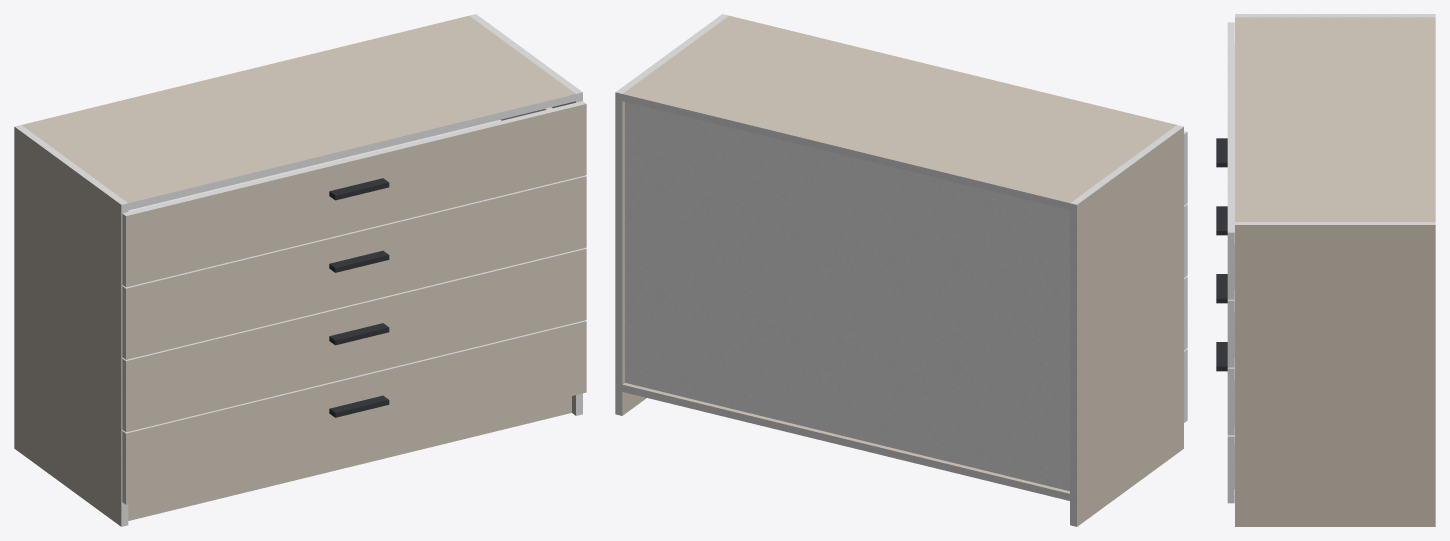
Rendered from CAL-DRS-std.glb.
3 views of the same model, side by side, from view 1: azimuth 30°, elevation 25°; view 2: azimuth 150°, elevation 25°; view 3: azimuth 270°, elevation 25° (orthographic). The views are drawn at different scales.
Visible parts, largest first — view 1: top:pbr, side-l:pbr, d1-front:pbr, d2-front:pbr, d3-front:pbr, d4-front:pbr, plinth:pbr, top:sheet:eyJtIjoibWRmIiwic2lkZSI6ImVkZ2UtbG9uZyIsInNlZWQiOj, pull, d4-front:sheet:eyJtIjoibWRmIiwic2lkZSI6ImVkZ2UtbG9uZyIsInNlZ, d1-front:sheet:eyJtIjoibWRmIiwic2lkZSI6ImVkZ2UtbG9uZyIsInNlZ, d2-front:sheet:eyJtIjoibWRmIiwic2lkZSI6ImVkZ2UtbG9uZyIsInNlZ (+5 smaller); view 2: back:sheet:eyJtIjoibWRmIiwic2lkZSI6ImZhY2UiLCJzZWVkIjo0LCJ0a, top:pbr, side-l:pbr, top:sheet:eyJtIjoibWRmIiwic2lkZSI6ImVkZ2UtbG9uZyIsInNlZWQiOj, bottom:sheet:eyJtIjoibWRmIiwic2lkZSI6ImVkZ2UtbG9uZyIsInNlZWQ, side-r:sheet:eyJtIjoibWRmIiwic2lkZSI6ImVkZ2UtbG9uZyIsInNlZWQ, side-l:sheet:eyJtIjoibWRmIiwic2lkZSI6ImVkZ2UtbG9uZyIsInNlZWQ, bottom:pbr, side-r:pbr, side-r:sheet:eyJtIjoibWRmIiwic2lkZSI6ImVkZ2UtZW5kIiwic2VlZCI, side-l:sheet:eyJtIjoibWRmIiwic2lkZSI6ImVkZ2UtZW5kIiwic2VlZCI; view 3: side-r:pbr, top:pbr, d4-front:sheet:eyJtIjoibWRmIiwic2lkZSI6ImVkZ2UtbG9uZyIsInNlZ, pull, side-l:sheet:eyJtIjoibWRmIiwic2lkZSI6ImVkZ2UtZW5kIiwic2VlZCI, side-r:sheet:eyJtIjoibWRmIiwic2lkZSI6ImVkZ2UtZW5kIiwic2VlZCI, d3-front:sheet:eyJtIjoibWRmIiwic2lkZSI6ImVkZ2UtZW5kIiwic2VlZ, d4-front:sheet:eyJtIjoibWRmIiwic2lkZSI6ImVkZ2UtZW5kIiwic2VlZ, d1-front:sheet:eyJtIjoibWRmIiwic2lkZSI6ImVkZ2UtZW5kIiwic2VlZ, d2-front:sheet:eyJtIjoibWRmIiwic2lkZSI6ImVkZ2UtZW5kIiwic2VlZ.
Boxes of the visible parts, x1,y1,x2,y2 form: top:pbr: (22, 16, 575, 202); side-l:pbr: (14, 127, 121, 526); d1-front:pbr: (126, 321, 586, 504); d2-front:pbr: (126, 249, 586, 432); d3-front:pbr: (126, 176, 586, 359); d4-front:pbr: (126, 104, 586, 287); plinth:pbr: (128, 396, 571, 520); top:sheet:eyJtIjoibWRmIiwic2lkZSI6ImVkZ2UtbG9uZyIsInNlZWQiOj: (128, 94, 575, 210); pull: (329, 178, 389, 417); d4-front:sheet:eyJtIjoibWRmIiwic2lkZSI6ImVkZ2UtbG9uZyIsInNlZ: (122, 101, 585, 215); d1-front:sheet:eyJtIjoibWRmIiwic2lkZSI6ImVkZ2UtbG9uZyIsInNlZ: (122, 320, 585, 433); d2-front:sheet:eyJtIjoibWRmIiwic2lkZSI6ImVkZ2UtbG9uZyIsInNlZ: (122, 248, 585, 360); back:sheet:eyJtIjoibWRmIiwic2lkZSI6ImZhY2UiLCJzZWVkIjo0LCJ0a: (625, 102, 1069, 491); top:pbr: (623, 15, 1176, 202); side-l:pbr: (1077, 127, 1183, 526); top:sheet:eyJtIjoibWRmIiwic2lkZSI6ImVkZ2UtbG9uZyIsInNlZWQiOj: (622, 94, 1069, 210); bottom:sheet:eyJtIjoibWRmIiwic2lkZSI6ImVkZ2UtbG9uZyIsInNlZWQ: (622, 384, 1069, 500); side-r:sheet:eyJtIjoibWRmIiwic2lkZSI6ImVkZ2UtbG9uZyIsInNlZWQ: (615, 92, 622, 415); side-l:sheet:eyJtIjoibWRmIiwic2lkZSI6ImVkZ2UtbG9uZyIsInNlZWQ: (1070, 203, 1076, 526); bottom:pbr: (623, 383, 1069, 493); side-r:pbr: (622, 101, 646, 415); side-r:sheet:eyJtIjoibWRmIiwic2lkZSI6ImVkZ2UtZW5kIiwic2VlZCI: (616, 14, 728, 93); side-l:sheet:eyJtIjoibWRmIiwic2lkZSI6ImVkZ2UtZW5kIiwic2VlZCI: (1070, 125, 1183, 204); side-r:pbr: (1235, 225, 1435, 526); top:pbr: (1235, 17, 1435, 221); d4-front:sheet:eyJtIjoibWRmIiwic2lkZSI6ImVkZ2UtbG9uZyIsInNlZ: (1227, 22, 1234, 232); pull: (1216, 138, 1227, 371); side-l:sheet:eyJtIjoibWRmIiwic2lkZSI6ImVkZ2UtZW5kIiwic2VlZCI: (1235, 14, 1435, 17); side-r:sheet:eyJtIjoibWRmIiwic2lkZSI6ImVkZ2UtZW5kIiwic2VlZCI: (1235, 222, 1435, 224); d3-front:sheet:eyJtIjoibWRmIiwic2lkZSI6ImVkZ2UtZW5kIiwic2VlZ: (1227, 300, 1234, 367); d4-front:sheet:eyJtIjoibWRmIiwic2lkZSI6ImVkZ2UtZW5kIiwic2VlZ: (1227, 232, 1234, 299); d1-front:sheet:eyJtIjoibWRmIiwic2lkZSI6ImVkZ2UtZW5kIiwic2VlZ: (1227, 436, 1234, 503); d2-front:sheet:eyJtIjoibWRmIiwic2lkZSI6ImVkZ2UtZW5kIiwic2VlZ: (1227, 368, 1234, 435).
Size of the model in its own units: 1.2 by 0.8 by 0.527.
91 materials, 81 textured.
